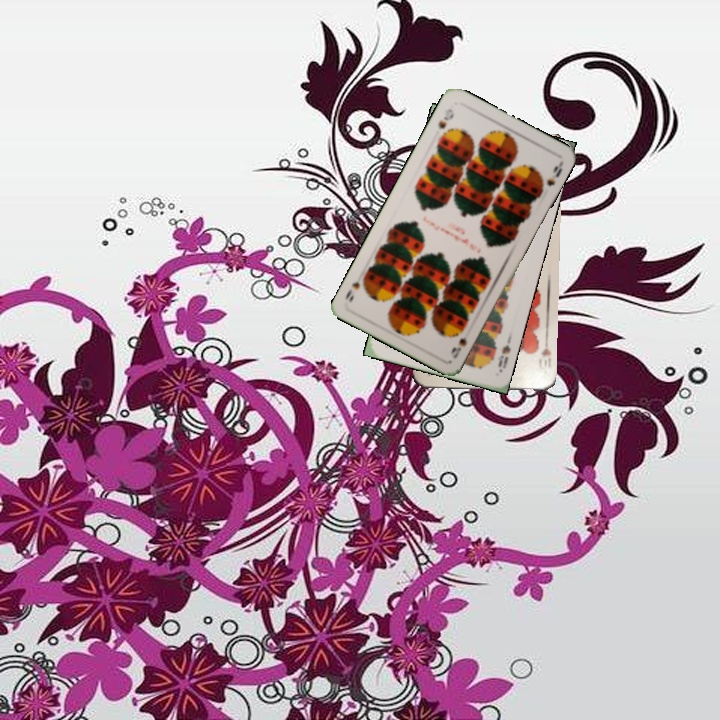H10: (534, 336, 553, 373)
S8: (493, 341, 513, 370)
S9: (434, 104, 457, 132), (447, 332, 469, 361)
